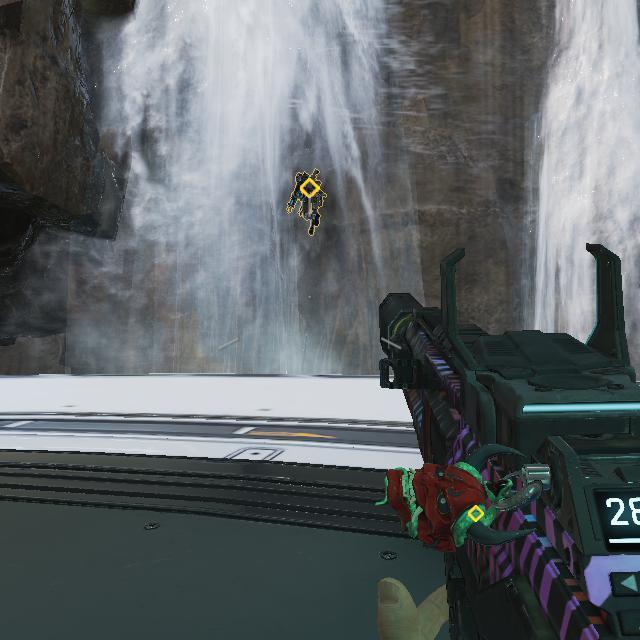avatar: (285, 168, 329, 237)
object: (298, 177, 321, 200)
